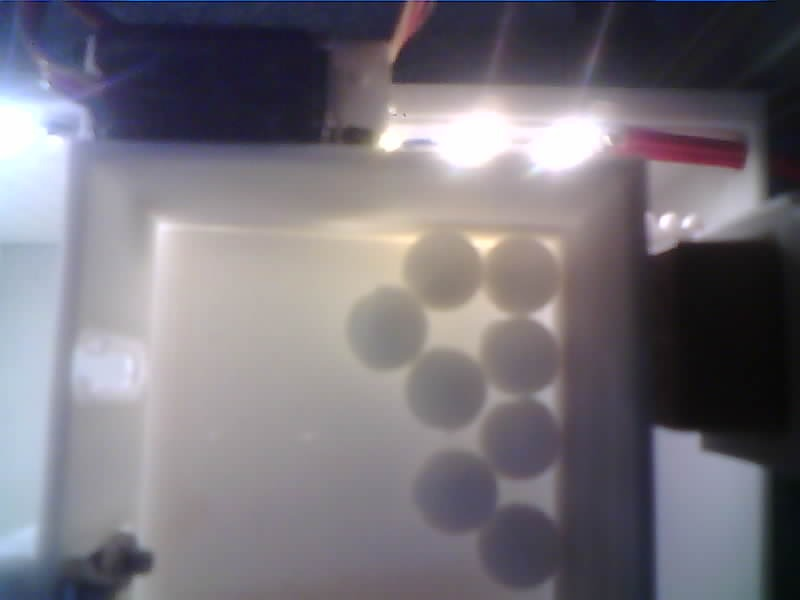Paper: (415, 452, 499, 536), (478, 502, 561, 585), (482, 400, 563, 482), (346, 287, 427, 365), (482, 237, 558, 318), (481, 321, 557, 396), (404, 237, 480, 304), (413, 352, 484, 423)
